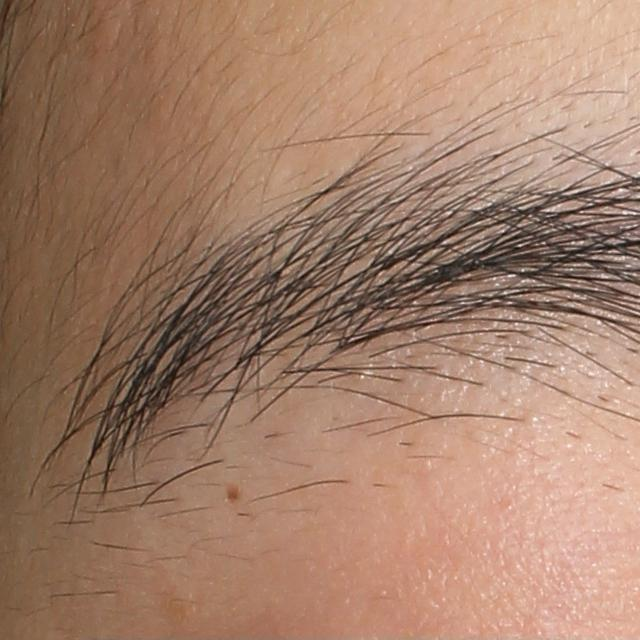nevus: (223, 479, 241, 505)
